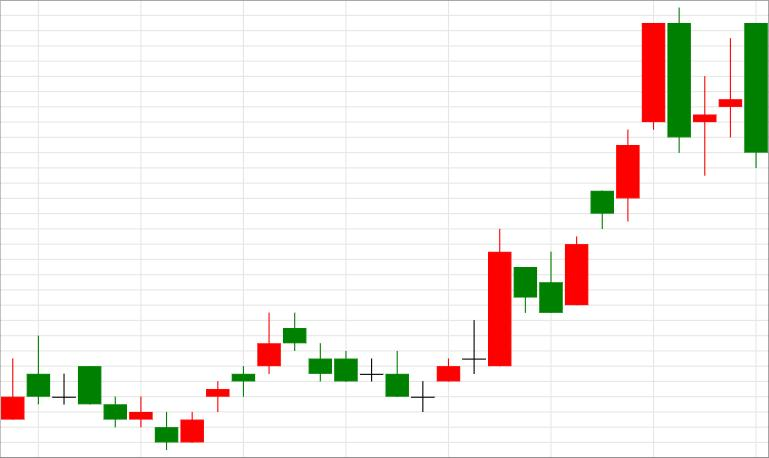bearish_engulfing_fall: (436, 8, 691, 382)
